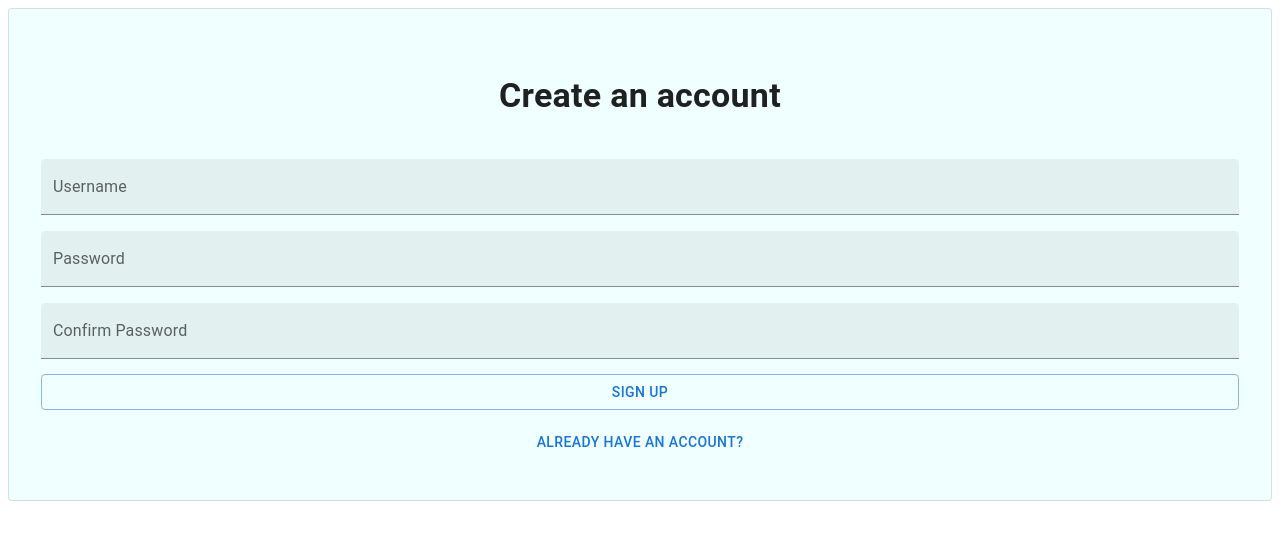
Scenario: Given the Register › When user attempts to sign up › And they provide all required form inputs › And passwords do not match › should show error about passwords differance
The image size is (1280, 541).
Type "top-secret" into the password field labelled "Password" at (640, 259), box [41,231,1239,287]
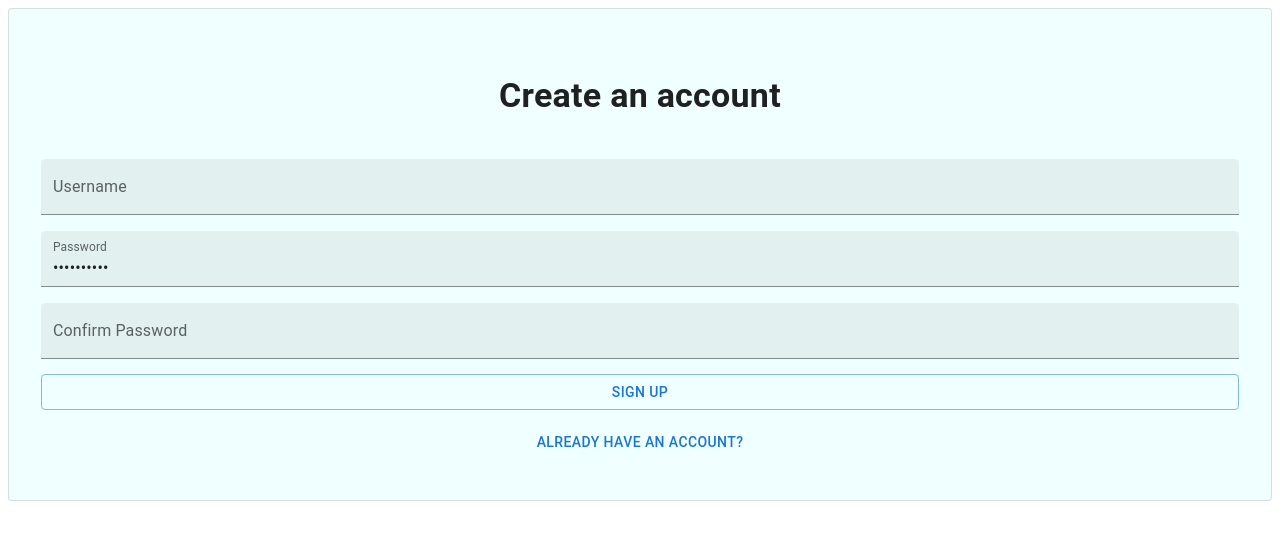
Type "my-username" into the field labelled "Username" at (640, 187), box [41,159,1239,215]
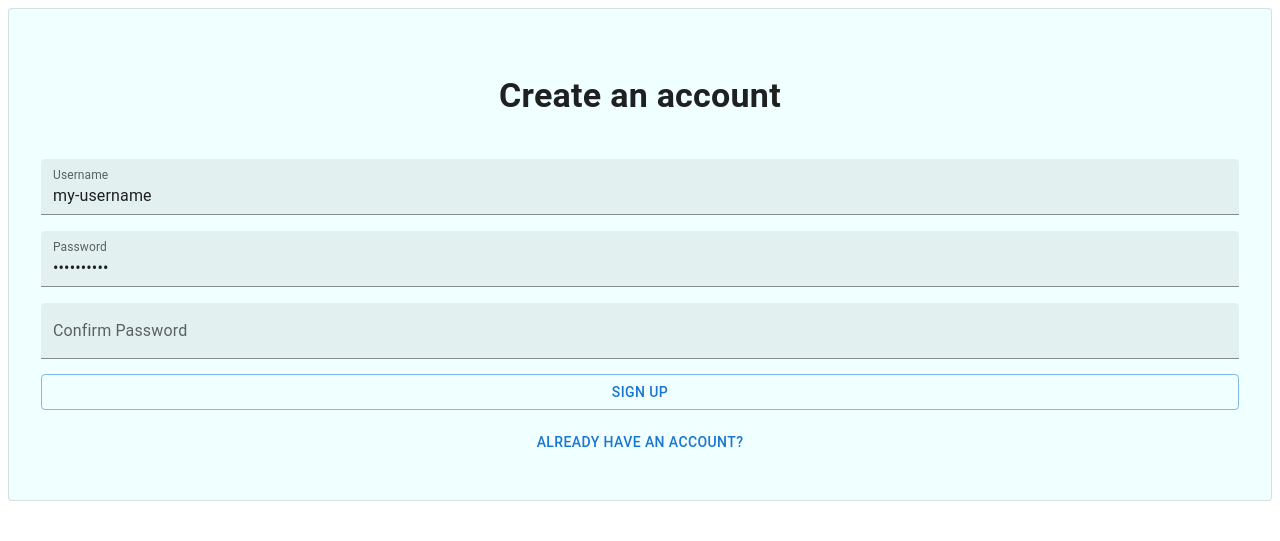
Type "top-secret-different" into the password field labelled "Confirm Password" at (640, 331), box [41,303,1239,359]
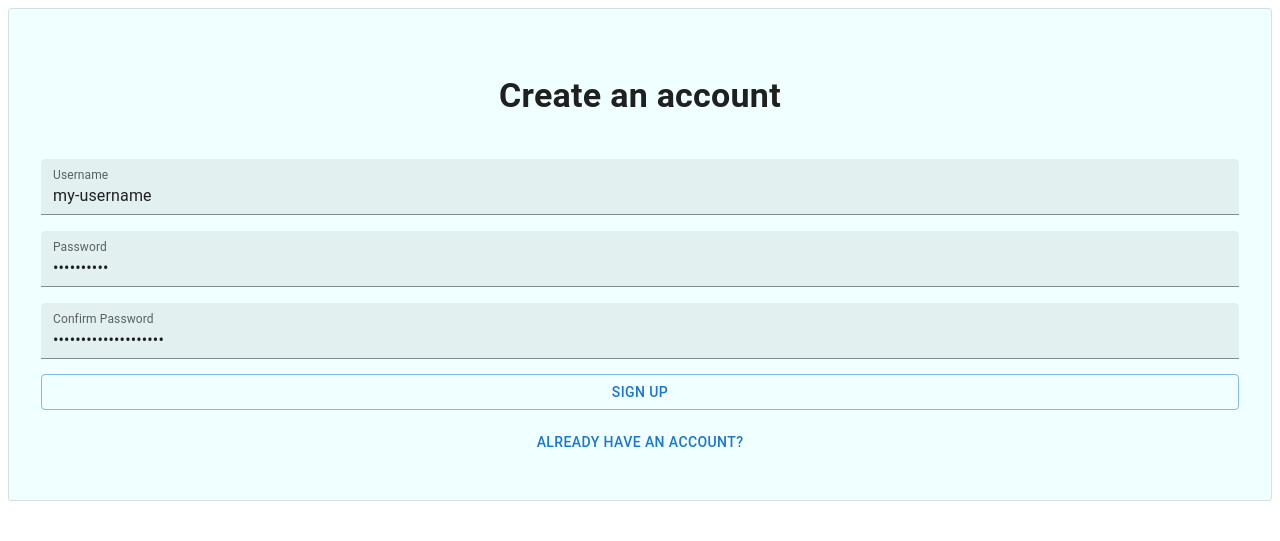
Click the button "Sign up" at (640, 392), box [41,374,1239,410]
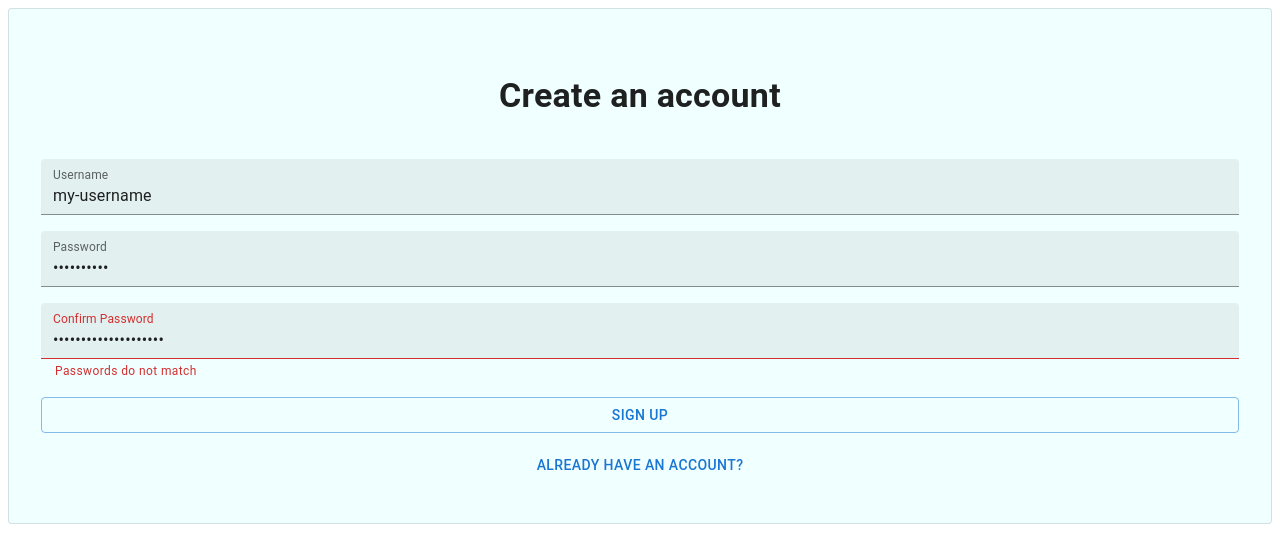
Check: the text "Passwords do not match" is shown, box [55,364,197,378]
